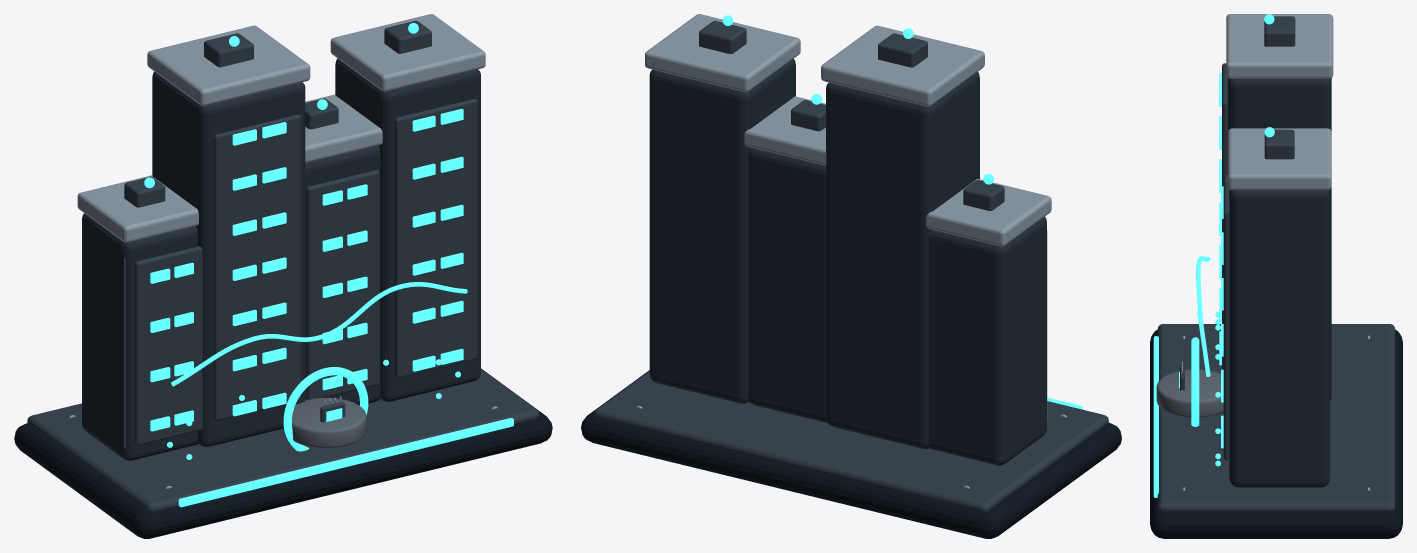
File: Company_A.glb
3 views of the same model, side by side, from view 1: azimuth 30°, elevation 25°; view 2: azimuth 150°, elevation 25°; view 3: azimuth 270°, elevation 25° (orthographic). The views are drawn at different scales.
Parts seen in each view (by area): view 1: Company_A_Tower1_Front, Company_A_Base1, Company_A_Tower3_Front, Company_A_Tower1_Body, Company_A_Base0, Company_A_Tower0_Body, Company_A_Tower2_Front, Company_A_Tower3_Body, Company_A_Tower0_Front, Company_A_Tower1_Roof, Company_A_Tower3_Roof, Company_A_Tower0_Roof (+10 smaller); view 2: Company_A_Tower1_Body, Company_A_Tower3_Body, Company_A_Tower0_Body, Company_A_Base1, Company_A_Tower2_Body, Company_A_Base0, Company_A_Tower1_Roof, Company_A_Tower3_Roof, Company_A_Tower0_Roof, Company_A_Tower2_Roof, Company_A_Tower1_RooftopUnit, Company_A_Tower3_RooftopUnit (+2 smaller); view 3: Company_A_Tower3_Body, Company_A_Base1, Company_A_Base0, Company_A_Tower1_Roof, Company_A_Tower3_Roof, Company_A_Tower1_Body, Company_A_Gateway, Company_A_Tower3_Front, Company_A_FrontGlow, Company_A_Tower1_RooftopUnit, Company_A_Tower3_RooftopUnit, Company_A_GatewayGlow (+2 smaller).
Boxes of the visible parts, x1,y1,x2,y2 form: Company_A_Tower1_Front: [213, 114, 301, 420]; Company_A_Base1: [27, 369, 539, 512]; Company_A_Tower3_Front: [394, 99, 477, 378]; Company_A_Tower1_Body: [152, 71, 305, 446]; Company_A_Base0: [14, 368, 552, 538]; Company_A_Tower0_Body: [82, 213, 198, 460]; Company_A_Tower2_Front: [306, 170, 379, 399]; Company_A_Tower3_Body: [335, 58, 480, 401]; Company_A_Tower0_Front: [134, 246, 202, 445]; Company_A_Tower1_Roof: [147, 25, 310, 106]; Company_A_Tower3_Roof: [330, 14, 485, 91]; Company_A_Tower0_Roof: [77, 175, 198, 242]; Company_A_Tower1_Body: [826, 72, 979, 448]; Company_A_Tower3_Body: [649, 58, 795, 403]; Company_A_Tower0_Body: [928, 216, 1046, 465]; Company_A_Base1: [594, 371, 1108, 512]; Company_A_Tower2_Body: [748, 147, 827, 422]; Company_A_Base0: [581, 370, 1121, 538]; Company_A_Tower1_Roof: [821, 25, 984, 106]; Company_A_Tower3_Roof: [645, 14, 800, 92]; Company_A_Tower0_Roof: [926, 179, 1051, 246]; Company_A_Tower2_Roof: [744, 96, 826, 165]; Company_A_Tower1_RooftopUnit: [878, 33, 927, 67]; Company_A_Tower3_RooftopUnit: [699, 20, 746, 53]; Company_A_Tower3_Body: [1229, 189, 1329, 487]; Company_A_Base1: [1157, 324, 1395, 511]; Company_A_Base0: [1150, 330, 1402, 538]; Company_A_Tower1_Roof: [1226, 14, 1333, 78]; Company_A_Tower3_Roof: [1228, 128, 1331, 190]; Company_A_Tower1_Body: [1228, 78, 1331, 400]; Company_A_Gateway: [1156, 369, 1223, 417]; Company_A_Tower3_Front: [1223, 175, 1229, 459]; Company_A_FrontGlow: [1153, 336, 1158, 497]; Company_A_Tower1_RooftopUnit: [1264, 16, 1295, 46]; Company_A_Tower3_RooftopUnit: [1264, 129, 1294, 159]; Company_A_GatewayGlow: [1191, 337, 1199, 426].
Bounding box in the file's own units: 2.84 × 2.77 × 1.56.
